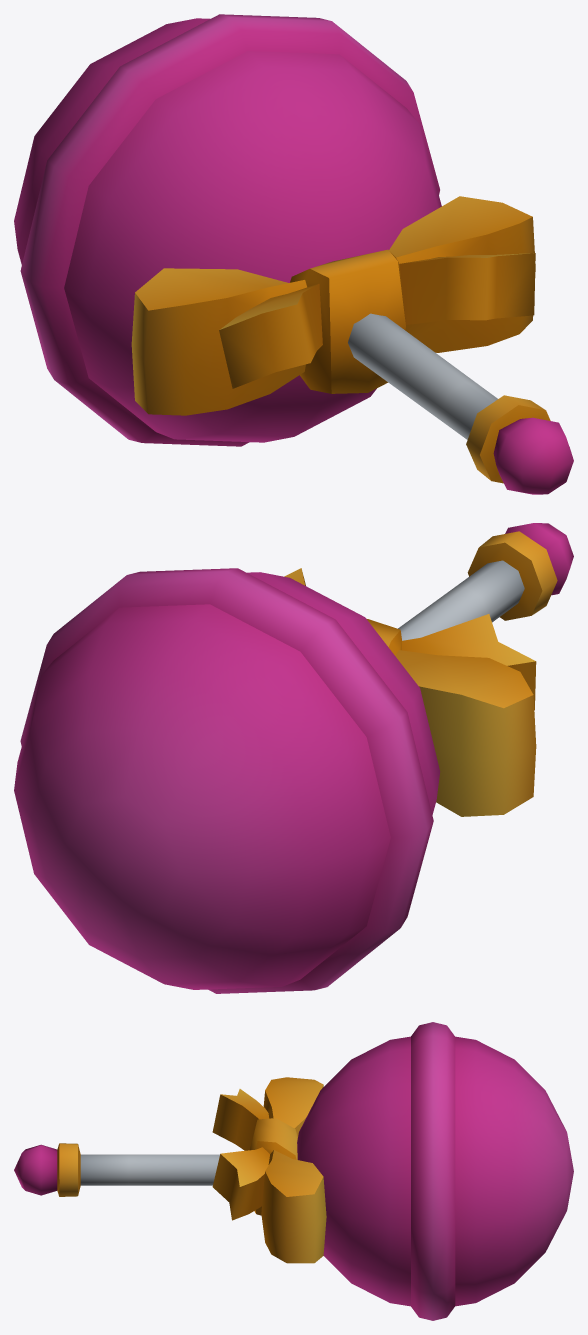
The model's file is Melee_Lollipop.fbx.
The picture shows the model from 3 angles, top to bottom: view 1: azimuth 30°, elevation 25°; view 2: azimuth 150°, elevation 25°; view 3: azimuth 270°, elevation 25°; orthographic projection. The views are drawn at different scales.
Visible parts, largest first — view 1: Melee_Lollipop; view 2: Melee_Lollipop; view 3: Melee_Lollipop.
Part boxes in pixels (bbox=[...]): Melee_Lollipop: bbox=[14, 14, 573, 494]; Melee_Lollipop: bbox=[14, 523, 573, 993]; Melee_Lollipop: bbox=[14, 1022, 573, 1320].
Bounding box in the file's own units: 0.5806 × 0.5806 × 1.08.
